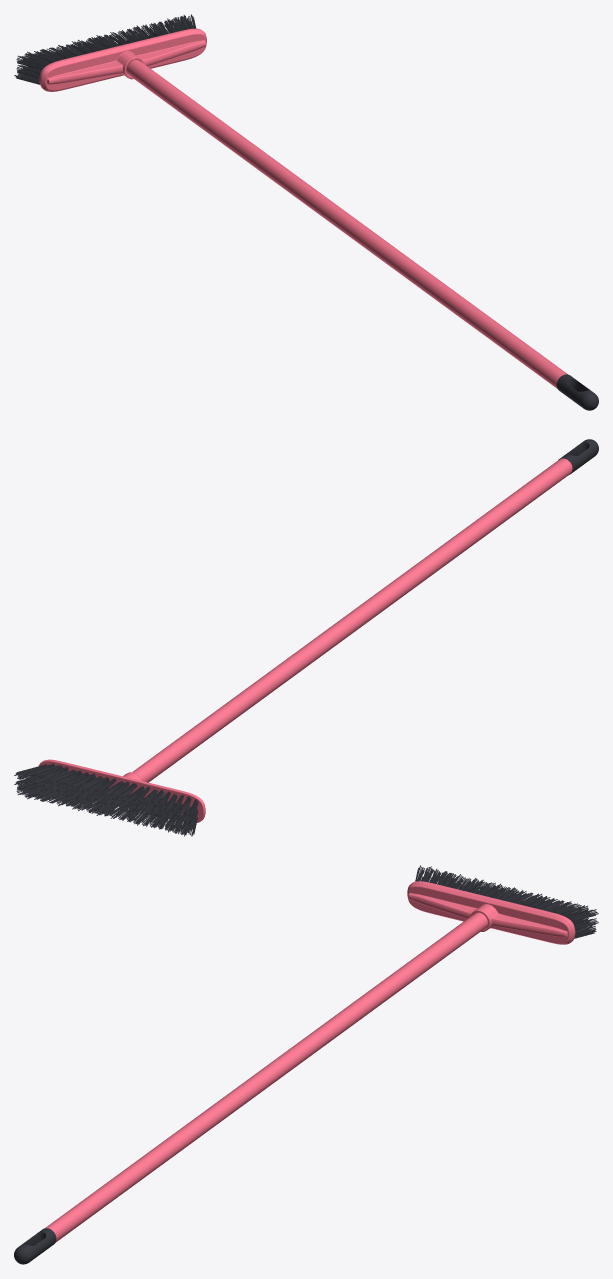
Rendered from scopa.fbx.
3 renders of one model, top to bottom at view 1: azimuth 30°, elevation 25°; view 2: azimuth 150°, elevation 25°; view 3: azimuth 330°, elevation 25°, orthographic.
Visible parts, largest first — view 1: Object_119, Object_117; view 2: Object_119, Object_117; view 3: Object_119, Object_117.
Part boxes in pixels (x1,y1,x2,y2): Object_119: (39, 28, 567, 388); Object_117: (14, 14, 598, 410); Object_119: (39, 458, 572, 822); Object_117: (14, 439, 598, 836); Object_119: (45, 881, 575, 1242); Object_117: (14, 865, 598, 1264).
Bounding box in the file's own units: 27.46 × 4.22 × 130.
